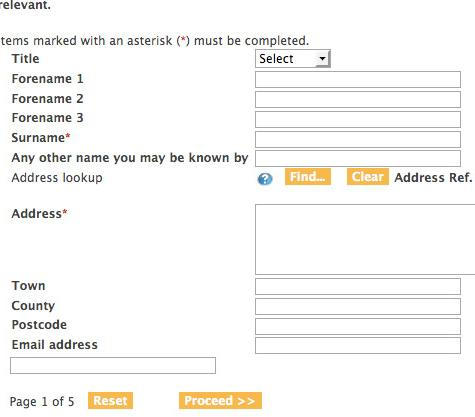button: (177, 391, 264, 410), (86, 390, 135, 411), (282, 167, 334, 186), (345, 166, 392, 186)
field: (253, 335, 463, 356), (8, 355, 218, 376), (253, 129, 462, 150), (253, 89, 463, 109), (254, 277, 462, 297), (253, 70, 463, 89), (254, 149, 463, 168), (253, 317, 462, 336), (253, 297, 461, 316), (253, 111, 463, 129), (253, 48, 333, 68)
field_with_label: (10, 334, 465, 357), (12, 107, 465, 130), (10, 294, 465, 316), (10, 129, 464, 151), (11, 315, 465, 337), (9, 88, 466, 109), (10, 68, 465, 89), (11, 147, 463, 168), (12, 276, 465, 296), (11, 47, 337, 70)
